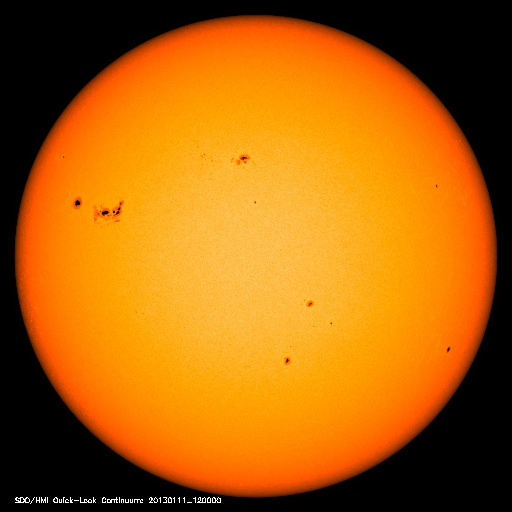sunspot: (273, 289, 323, 368), (64, 186, 134, 231), (430, 332, 465, 364), (224, 146, 262, 171)
